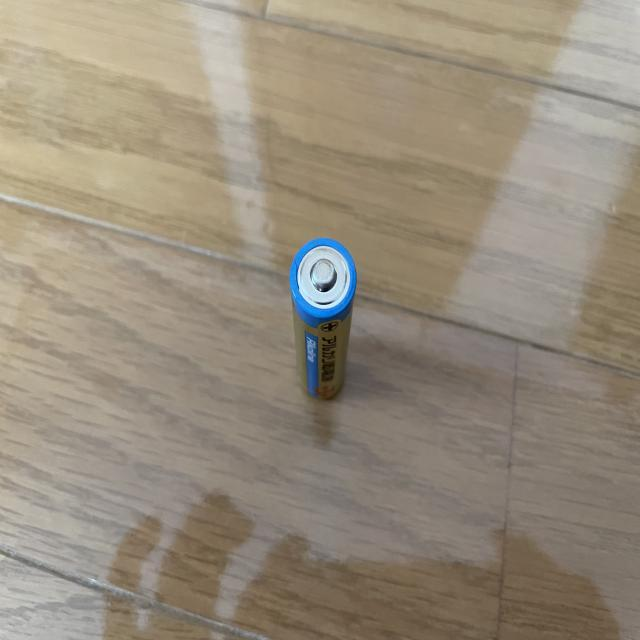hazardous waste: (285, 231, 361, 404)
